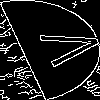V: (25, 25, 100, 70)
